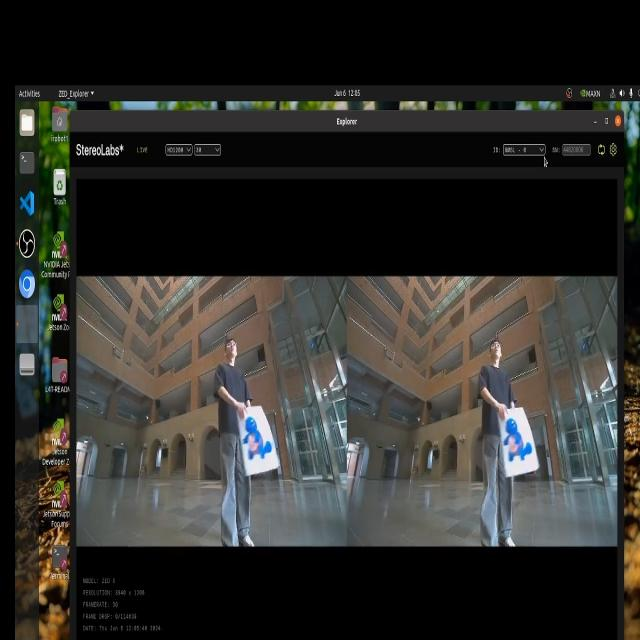blue: (501, 409, 536, 471), (242, 413, 273, 461)
